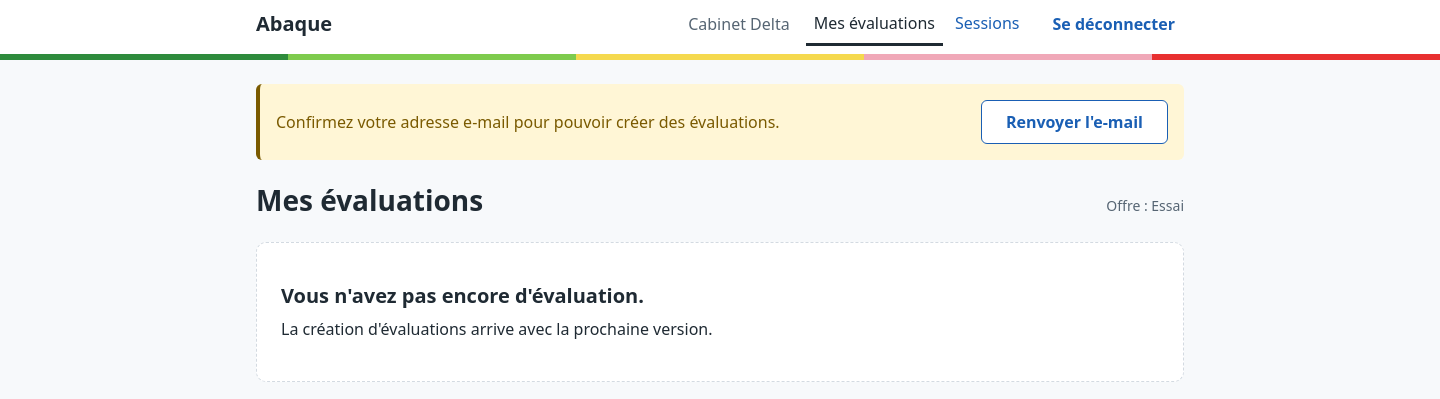
it: signed-in pages › asks unverified owners to confirm their email and can resend it
Click the button "Renvoyer l'e-mail": (1074, 122) [981,100,1168,144]
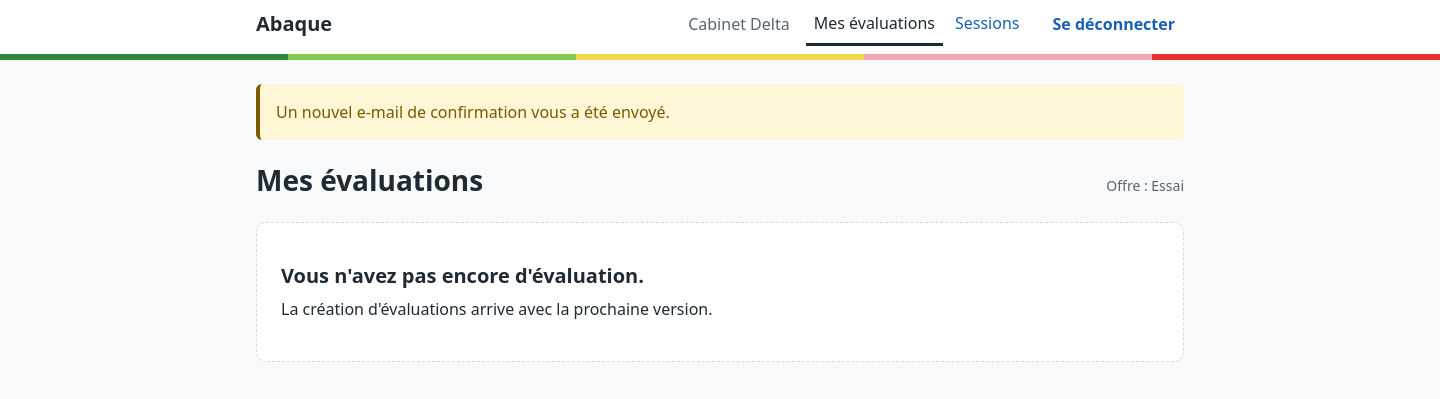
Expected: the text "Un nouvel e-mail de confirmation vous a été envoyé." is shown, [276,100,670,124]
